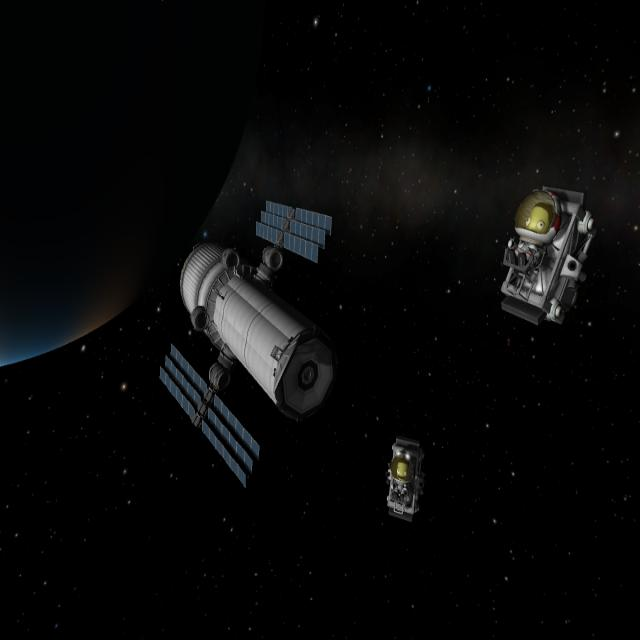satellite: (165, 205, 361, 500), (492, 165, 611, 362), (381, 427, 439, 529)
